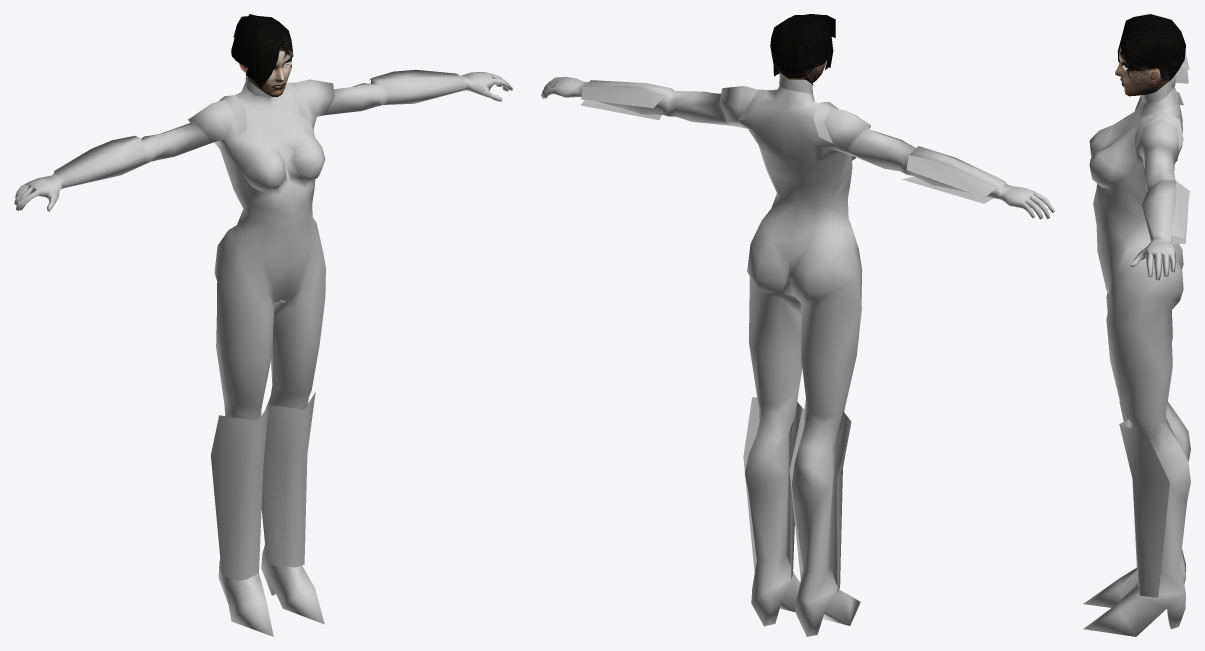
File: Shahdee.obj
The picture shows the model from 3 angles, left to right: view 1: azimuth 30°, elevation 25°; view 2: azimuth 150°, elevation 25°; view 3: azimuth 270°, elevation 25°; orthographic projection. The views are drawn at different scales.
Size of the model in its own units: 3.17 by 3.63 by 0.5956.
